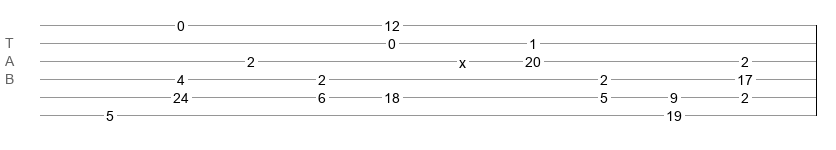0: (177, 18, 185, 28), (388, 36, 396, 46)
1: (529, 36, 537, 46)
12: (384, 18, 400, 28)
17: (737, 72, 753, 82)
18: (384, 90, 400, 100)
19: (666, 108, 682, 118)
2: (247, 54, 255, 64), (318, 72, 326, 82), (600, 72, 608, 82), (741, 54, 749, 64), (741, 90, 749, 100)
20: (525, 54, 541, 64)
24: (173, 90, 189, 100)
4: (177, 72, 185, 82)
5: (106, 108, 114, 118), (600, 90, 608, 100)
6: (318, 90, 326, 100)
9: (670, 90, 678, 100)
x: (459, 55, 466, 63)
